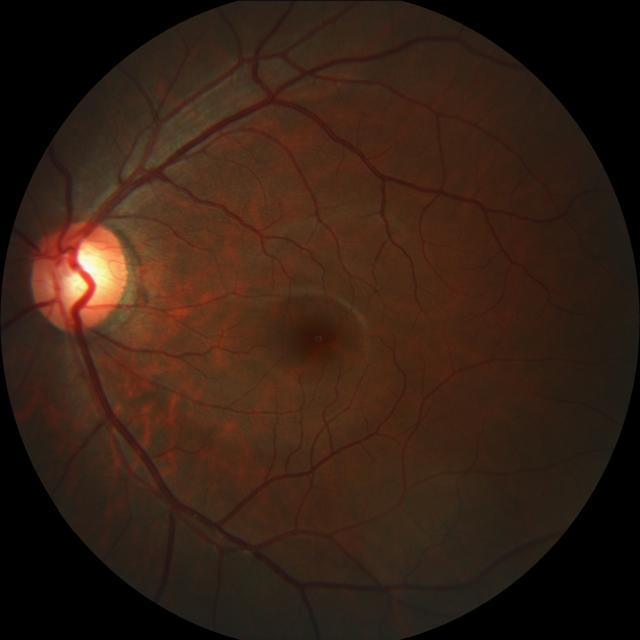OC: (59, 247, 112, 306)
OD: (34, 220, 130, 330)
